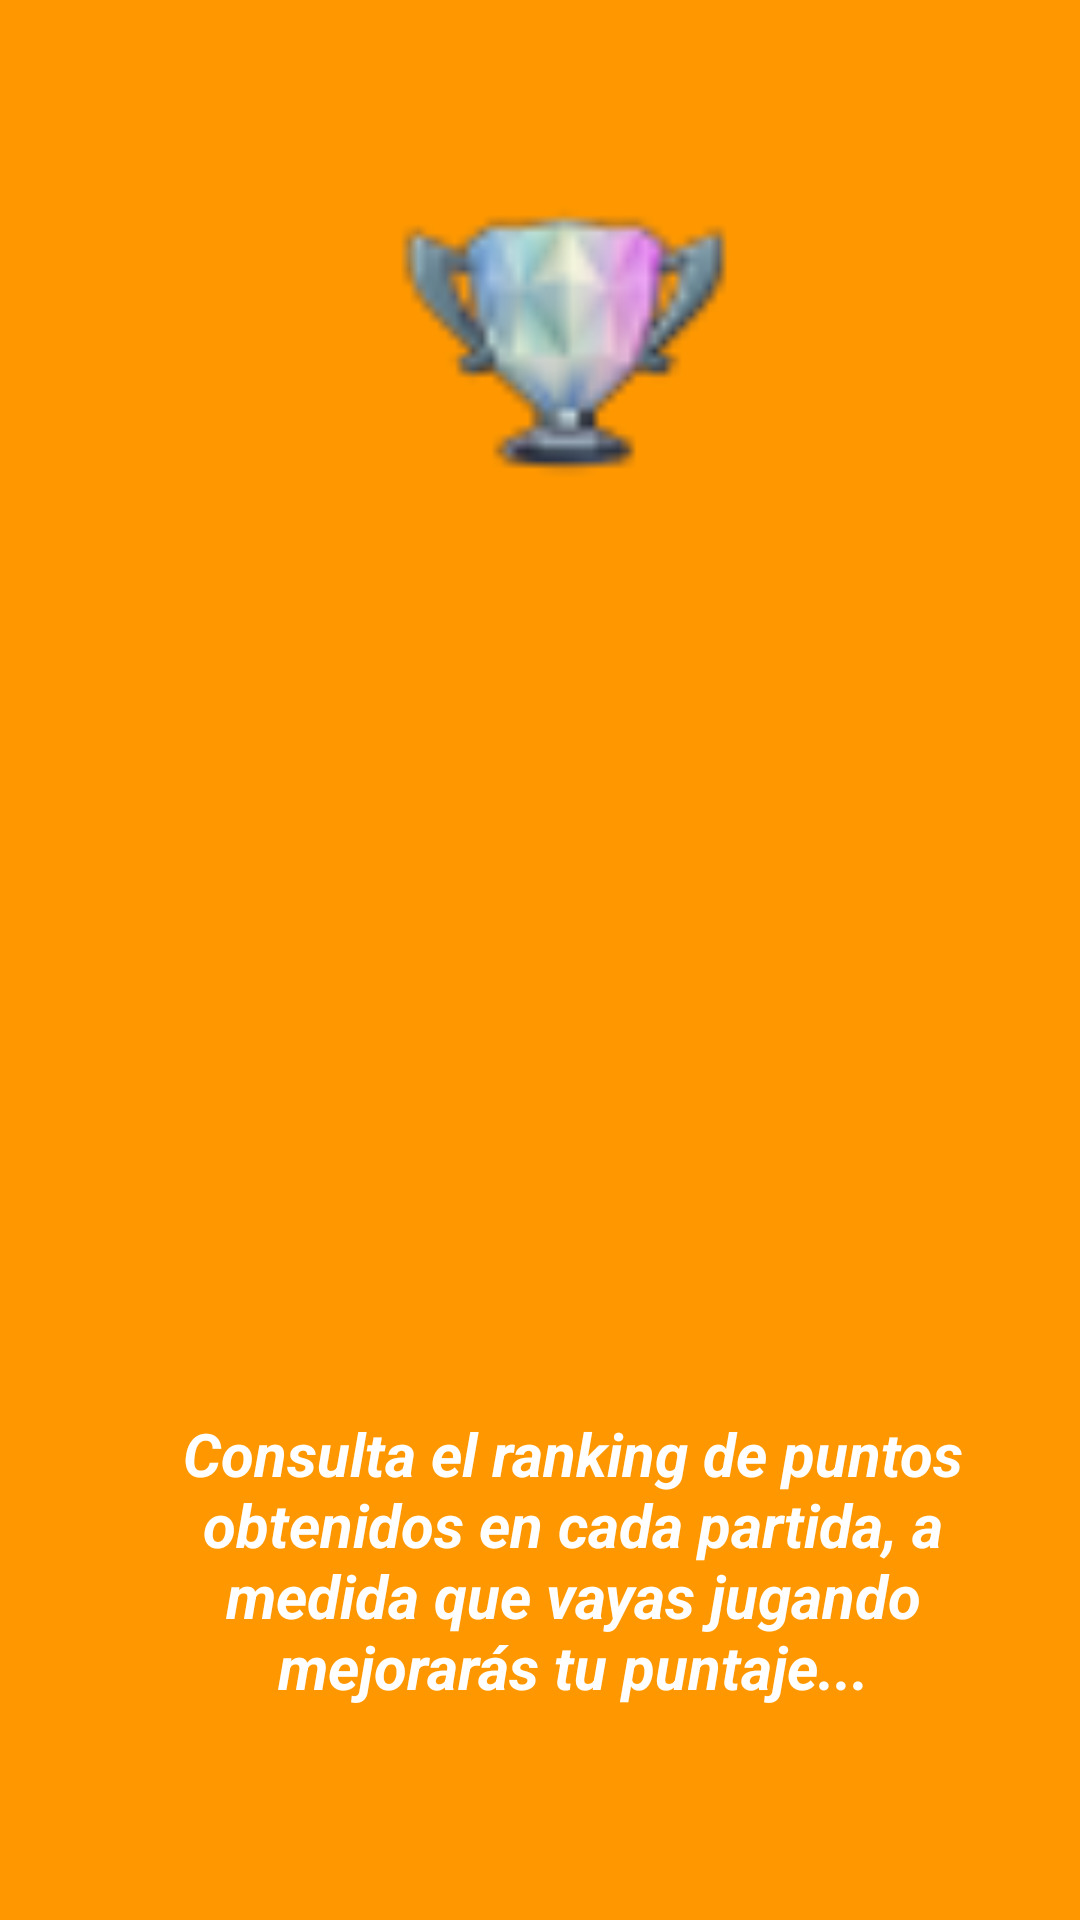

Icon bounding boxes for this 1080*1920 phone screenshot, format box(x1, y1, x2, y2):
trofeo: box(403, 216, 726, 470)
